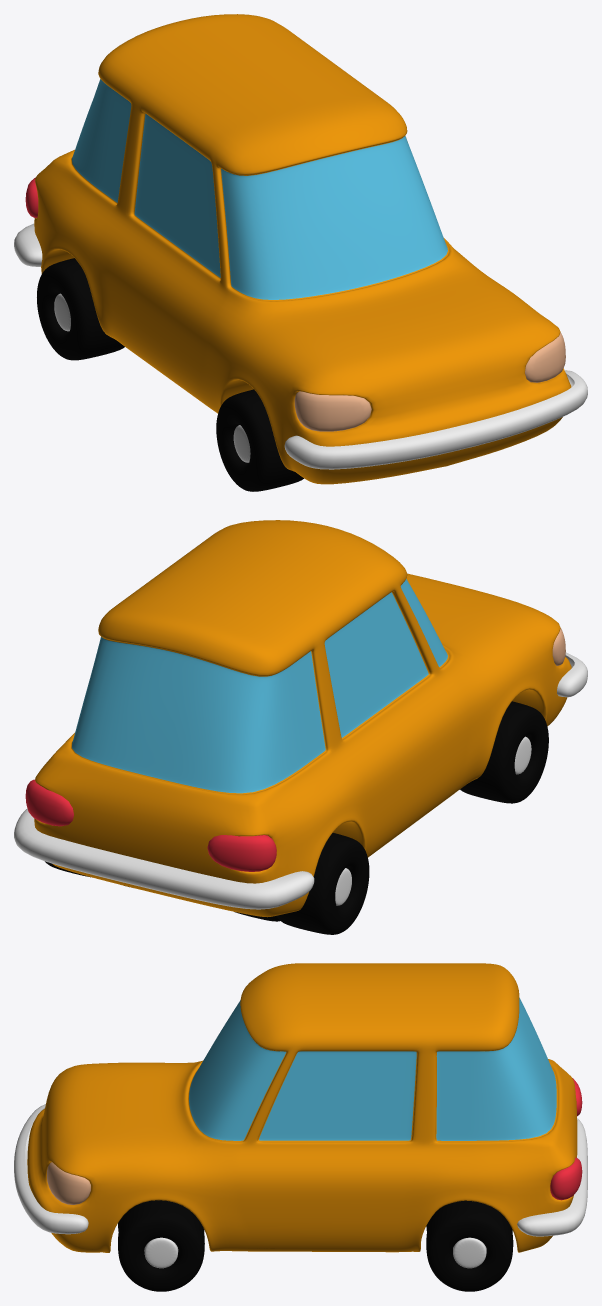
File: stylizedcar.glb
3 views of the same model, one above another, from view 1: azimuth 30°, elevation 25°; view 2: azimuth 150°, elevation 25°; view 3: azimuth 270°, elevation 25° (orthographic). The views are drawn at different scales.
Parts seen in each view (by area): view 1: Vert, Vert.004, Circle.001, Circle, Vert.001, Vert.003; view 2: Vert, Vert.003, Circle.001, Circle, Vert.002, Vert.004; view 3: Vert, Circle, Circle.001, Vert.004, Vert.003, Vert.001, Vert.002.
Part boxes in pixels (x1,y1,x2,y2): Vert: (34,14,571,484); Vert.004: (284,370,587,469); Circle.001: (37,258,124,360); Circle: (216,389,303,491); Vert.001: (294,332,565,431); Vert.003: (14,223,42,266); Vert: (34,520,571,917); Vert.003: (14,808,314,909); Circle.001: (45,833,369,934); Circle: (459,701,548,803); Vert.002: (25,779,276,871); Vert.004: (557,652,587,697); Vert: (27,963,577,1252); Circle: (118,1200,204,1291); Circle.001: (426,1200,513,1291); Vert.004: (14,1104,88,1234); Vert.003: (517,1118,587,1236); Vert.001: (47,1162,90,1204); Vert.002: (550,1078,582,1200).
Size of the model in its own units: 0.472 by 0.4485 by 0.9362.
